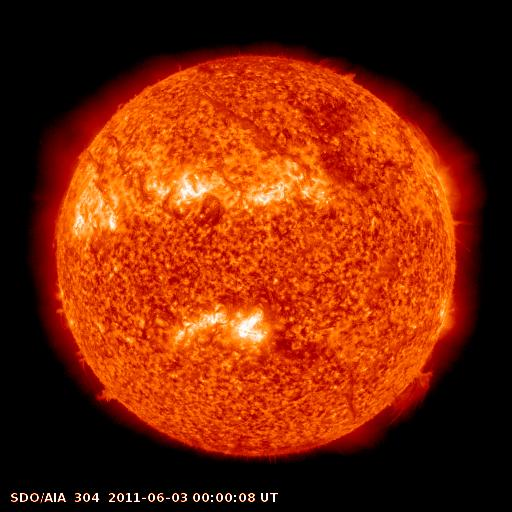prominence: (71, 343, 135, 415), (376, 364, 442, 429), (404, 116, 450, 171), (445, 211, 482, 256), (45, 285, 83, 322), (338, 64, 365, 90)
